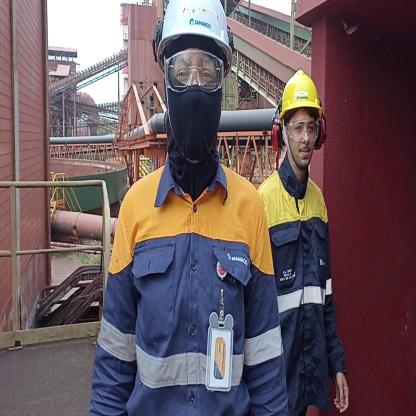Balaclava: (163, 46, 222, 190)
Capacete: (276, 65, 324, 111)
Operacional: (91, 172, 285, 416)
